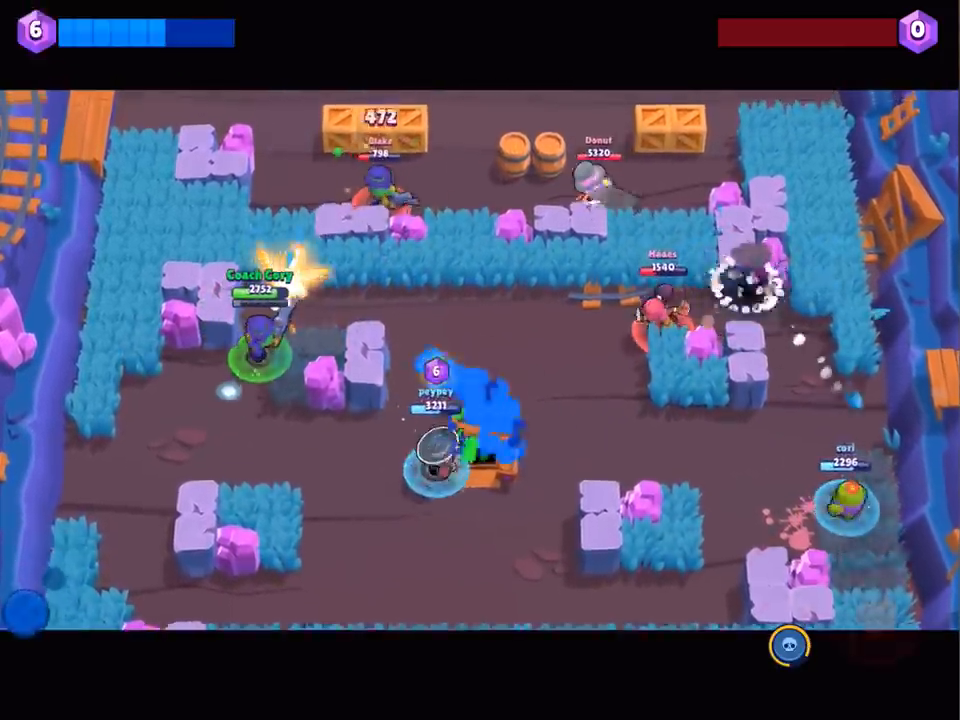move_stick: (7, 588, 54, 631)
red: (624, 258, 696, 358), (353, 143, 413, 223), (566, 141, 627, 211)
